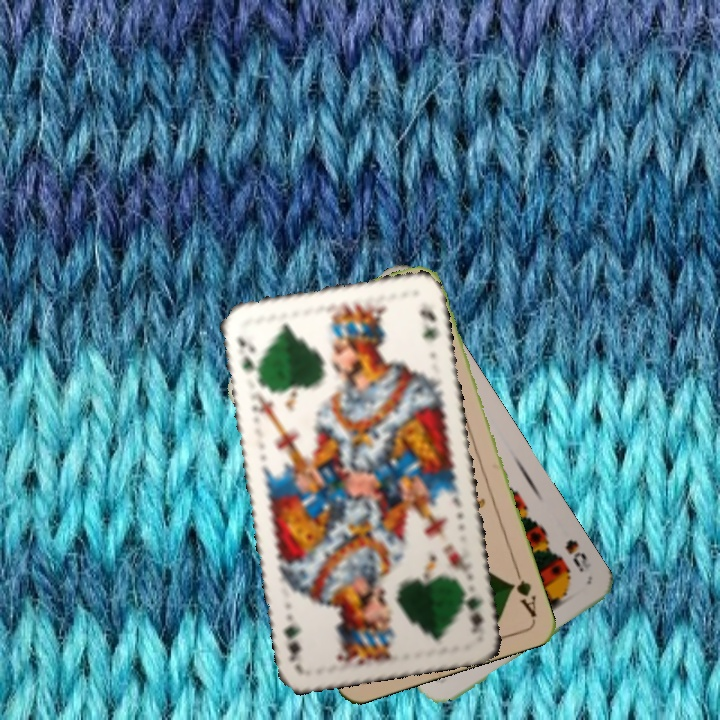GA: (506, 563, 539, 620)
GK: (458, 580, 486, 636), (232, 332, 262, 380)
S8: (561, 535, 594, 575)
